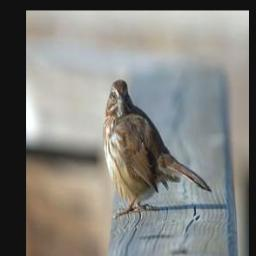Sparrow: (103, 79, 212, 217)
